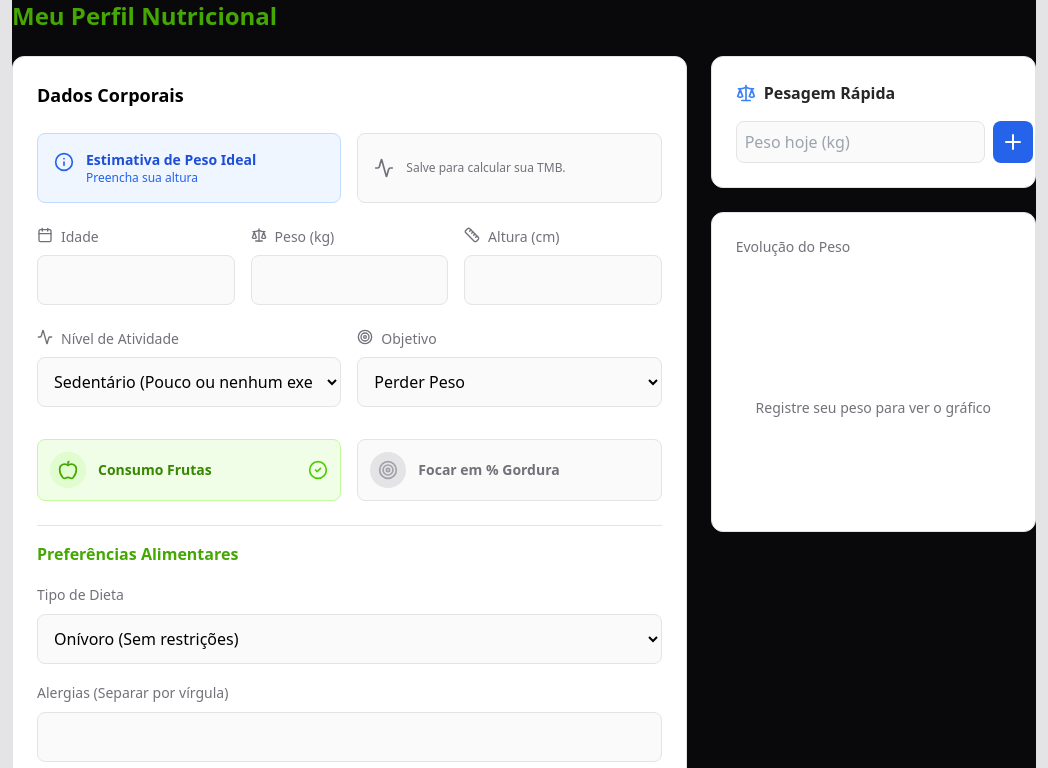
Scenario: Profile preference validation › blocks saving when allergies is numbers-only
Type "30" into the 2nd number field at x=136, y=280, box [37,255,234,305]
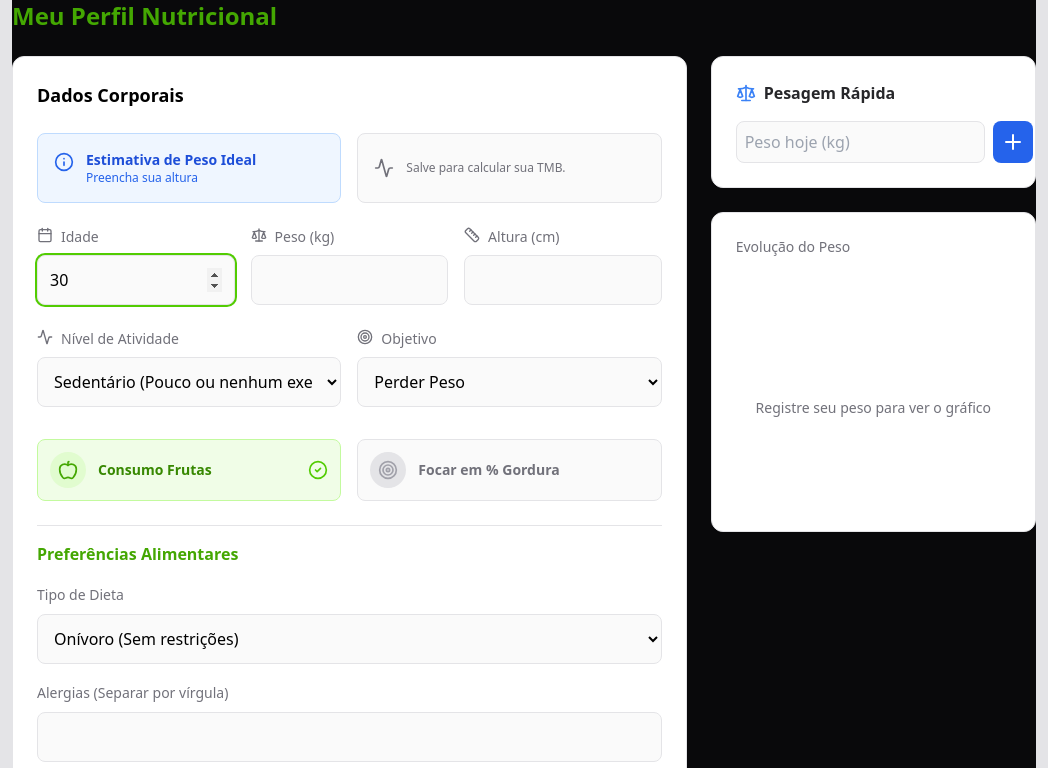
Type "80" into the number field below "Peso (kg)" at x=349, y=280, box [250,255,448,305]
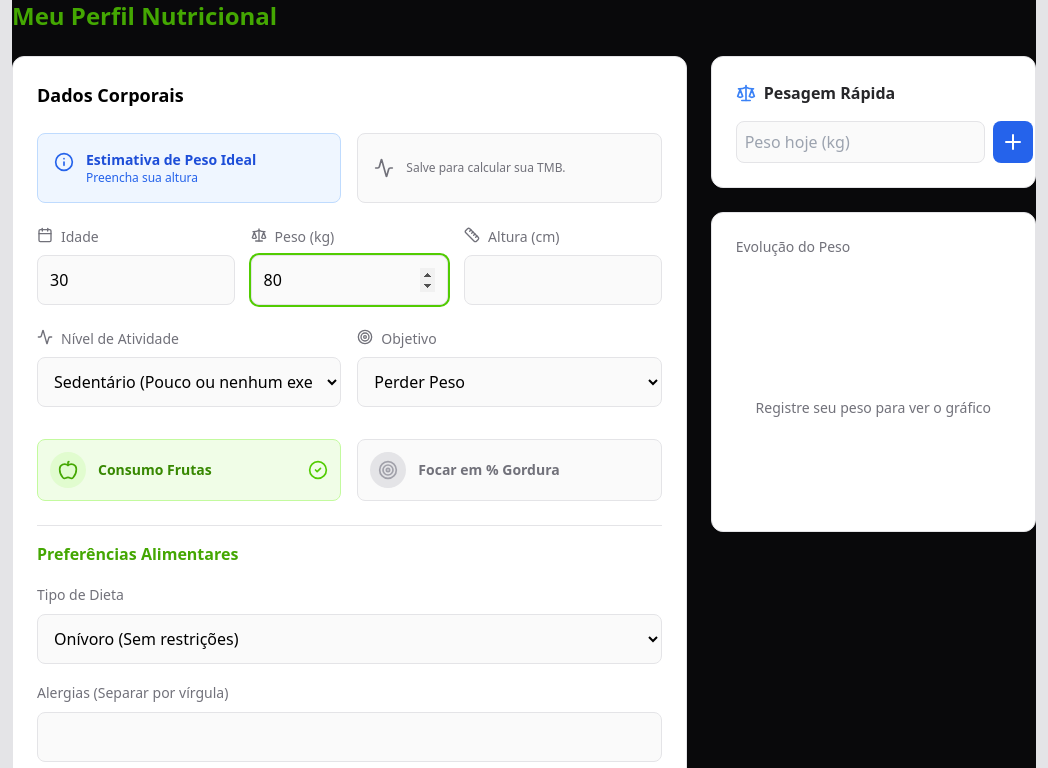
Type "180" into the number field below "Altura (cm)" at x=563, y=280, box [464,255,662,305]
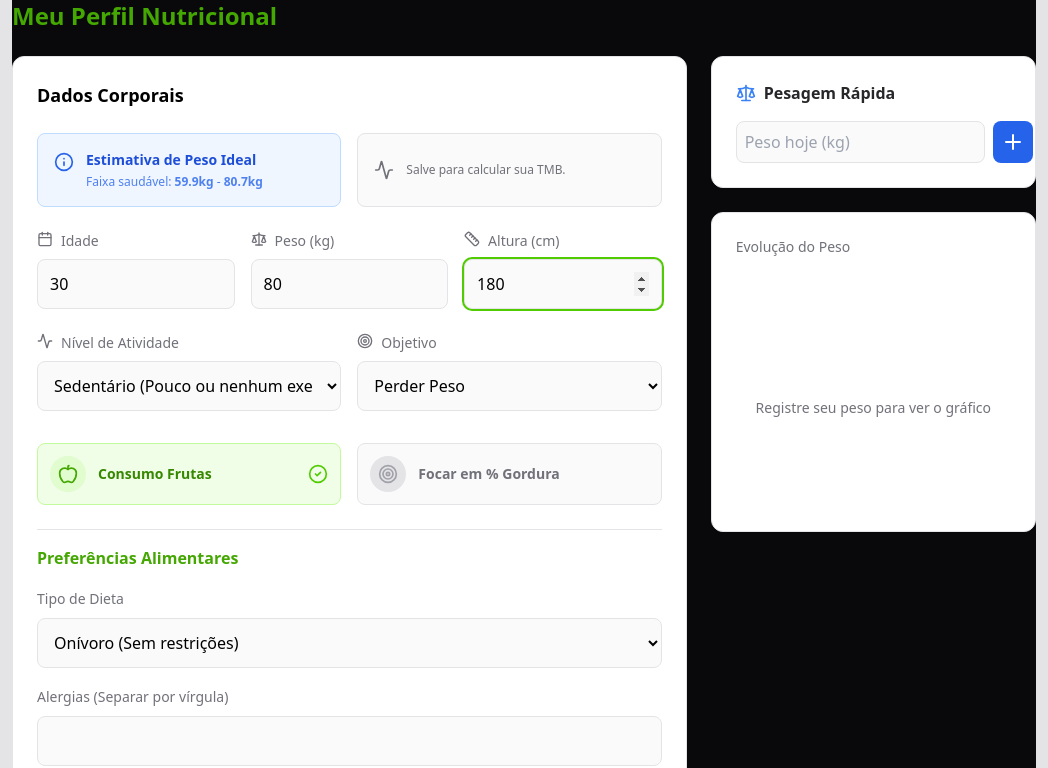
Type "123" into the field at x=349, y=741, box [37,716,662,766]
(page scrolled)
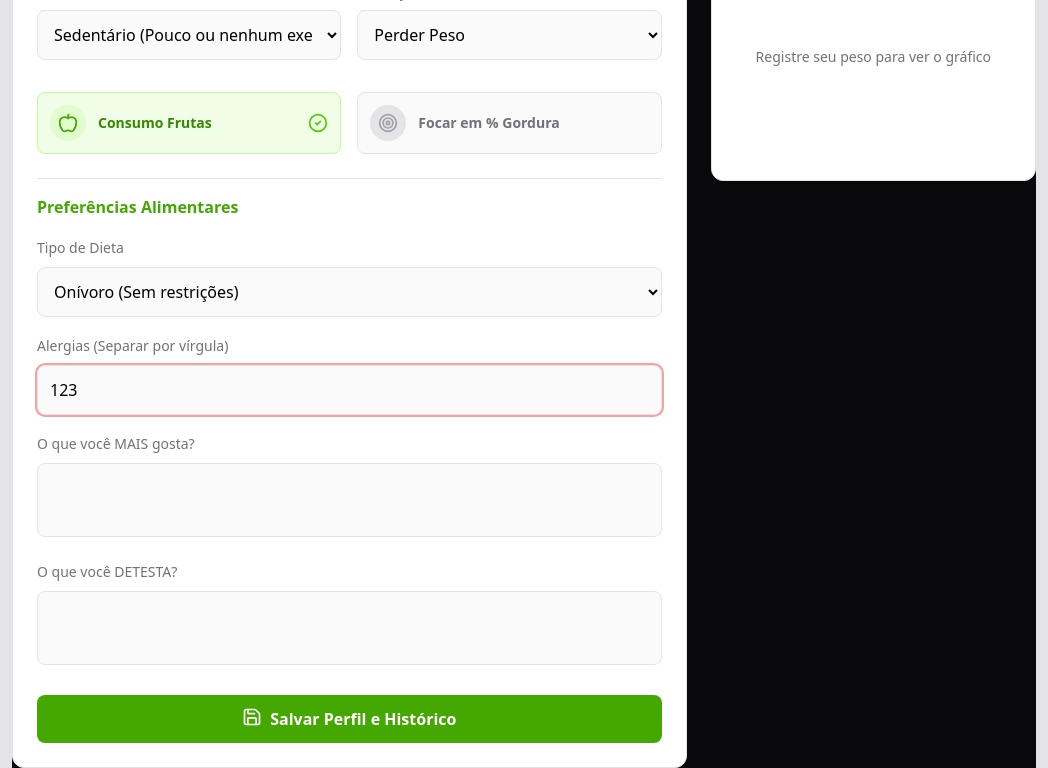
Click the button "Salvar Perfil e Histórico" at x=349, y=719, box [37,695,662,743]
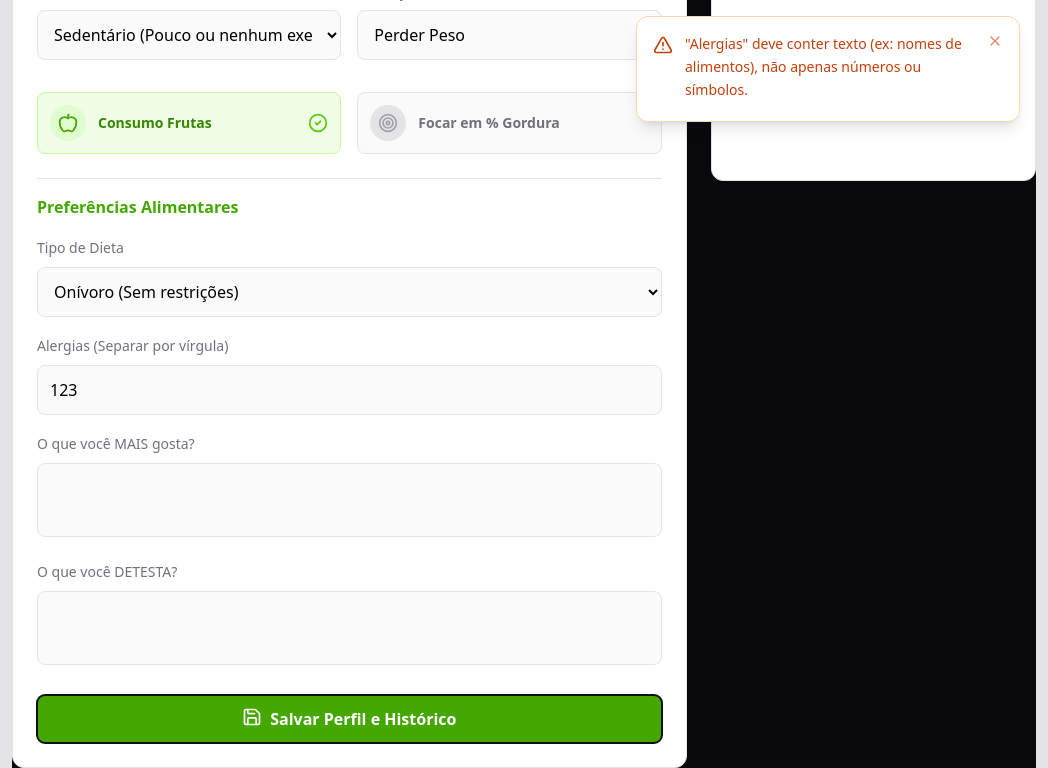
expect the text "deve conter texto (ex: nomes de alimentos)" is shown: met, box [685,34,962,98]
